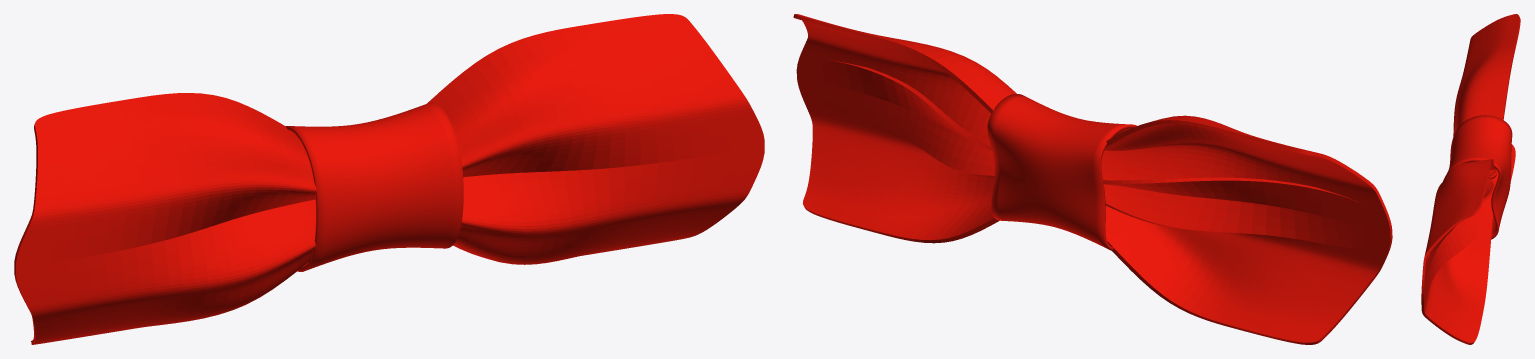
File: bowtie.fbx
3 views of the same model, side by side, from view 1: azimuth 30°, elevation 25°; view 2: azimuth 150°, elevation 25°; view 3: azimuth 270°, elevation 25° (orthographic). The views are drawn at different scales.
Parts seen in each view (by area): view 1: Cylinder.005; view 2: Cylinder.005; view 3: Cylinder.005.
Part boxes in pixels (bbox=[...]): Cylinder.005: bbox=[14, 14, 764, 344]; Cylinder.005: bbox=[793, 14, 1392, 344]; Cylinder.005: bbox=[1421, 14, 1520, 344].
Bounding box in the file's own units: 157 × 51.21 × 30.6.
